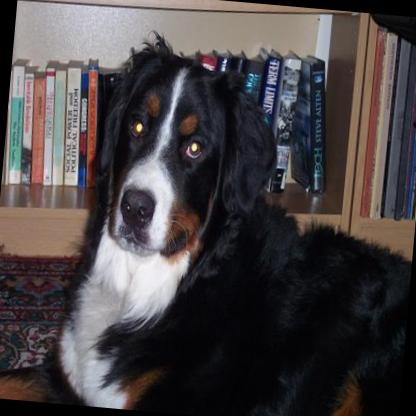Bernese_mountain_dog: (40, 21, 416, 416)
